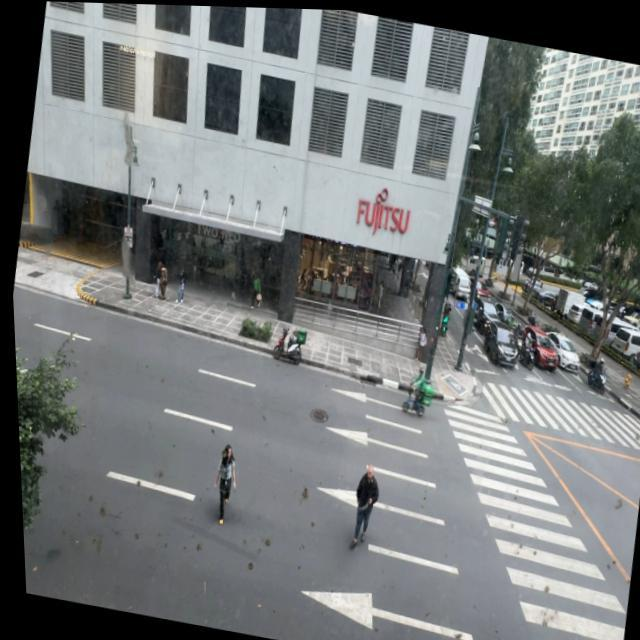jaywalking: (346, 462, 386, 550), (204, 440, 244, 524)
